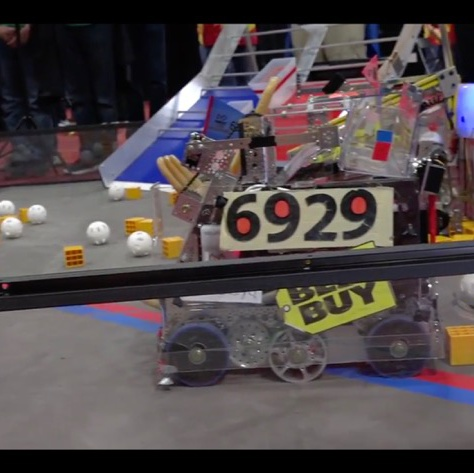robot: (152, 52, 465, 393)
